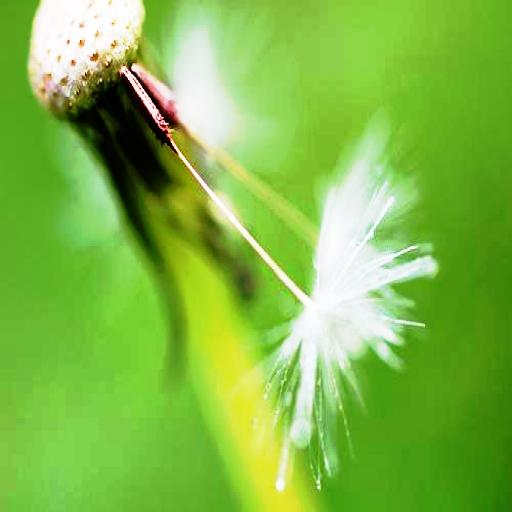dandelion: (260, 132, 449, 483)
